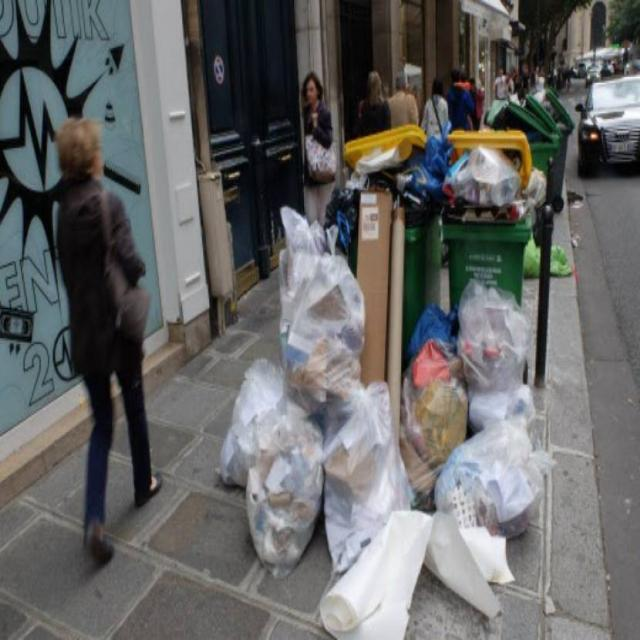garbage: (212, 203, 396, 585), (401, 276, 556, 550), (324, 134, 448, 222), (446, 142, 548, 225), (518, 234, 576, 284)
